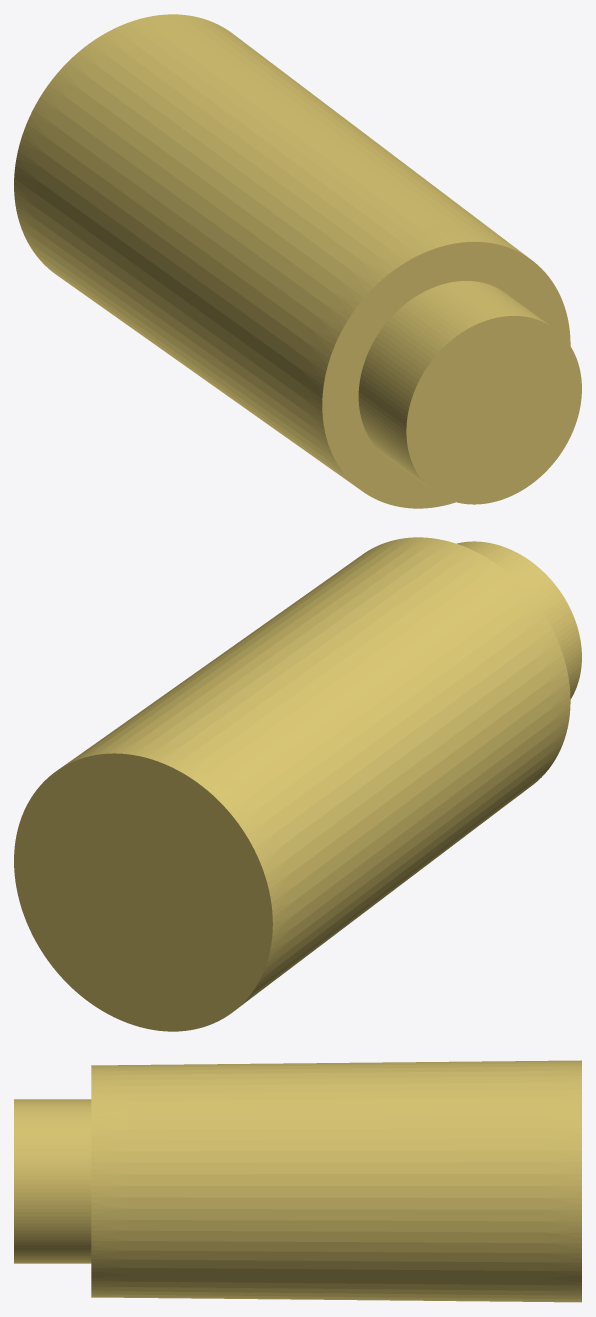
3 views of the same model, one above another, from view 1: azimuth 30°, elevation 25°; view 2: azimuth 150°, elevation 25°; view 3: azimuth 270°, elevation 25° (orthographic). The views are drawn at different scales.
Parts seen in each view (by area): view 1: node; view 2: node; view 3: node.
Part boxes in pixels (x1=…): node: x1=14, y1=14, x2=581, y2=508; node: x1=14, y1=537, x2=581, y2=1031; node: x1=14, y1=1060, x2=581, y2=1302.
Bounding box in the file's own units: 0.074 × 0.074 × 0.1737.
